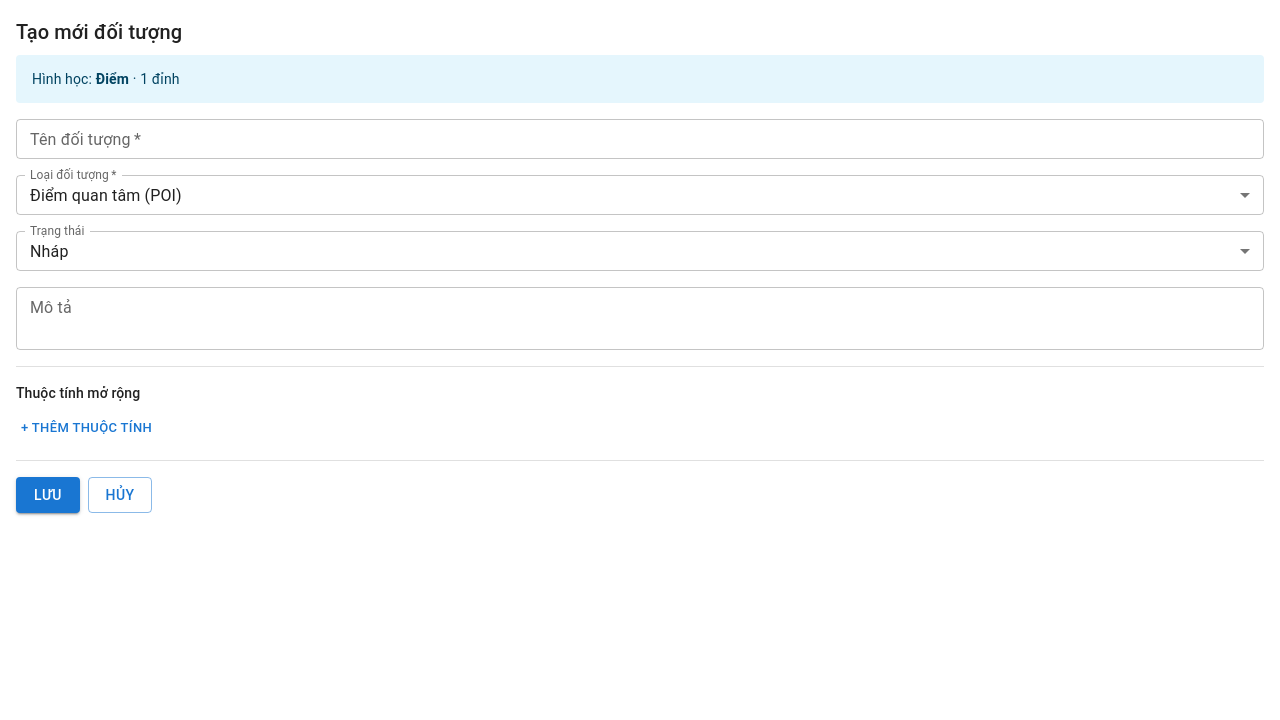
Test: FeatureForm › báo lỗi và không gọi API khi chưa nhập tên
Click the button "Lưu" at (48, 495), box [16,477,80,513]
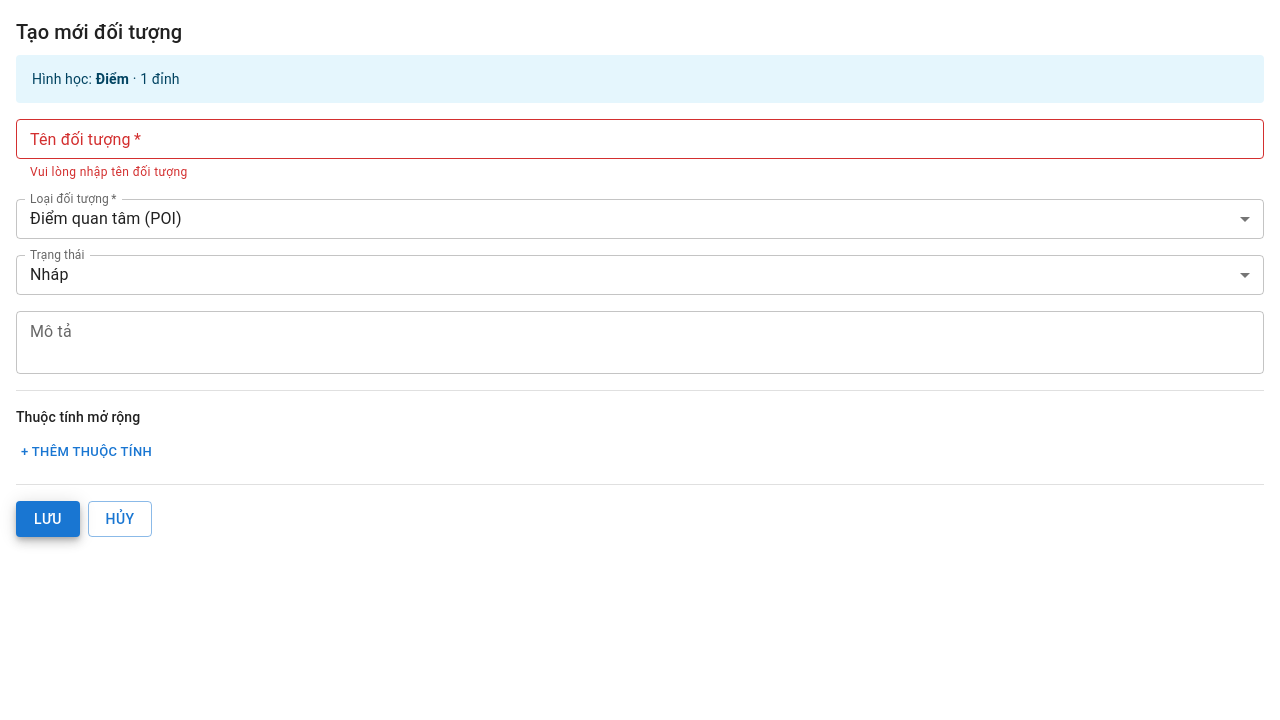
Expected: the text "Vui lòng nhập tên đối tượng" is shown, [30,165,188,179]
